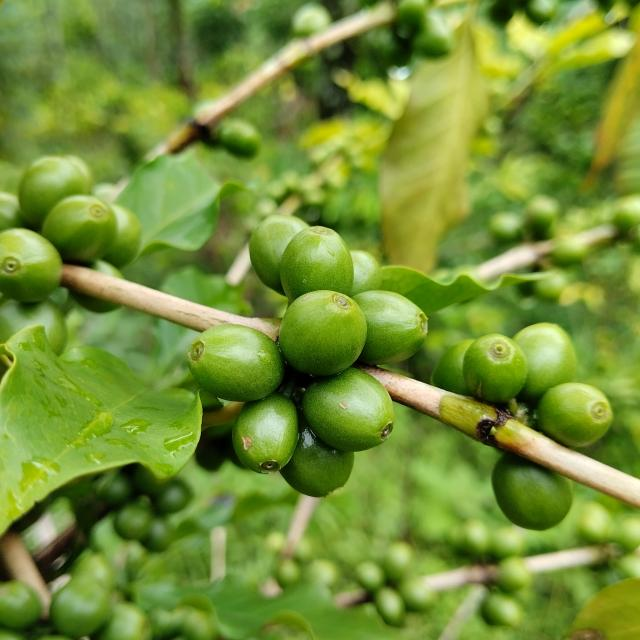green: (302, 367, 394, 452), (279, 290, 367, 376), (188, 324, 285, 402), (41, 195, 141, 267), (492, 453, 574, 531), (280, 226, 354, 303), (353, 290, 428, 365), (232, 392, 298, 474), (279, 426, 354, 498), (18, 155, 89, 229), (513, 323, 578, 402), (41, 195, 116, 263), (538, 383, 614, 448), (249, 214, 309, 295), (463, 334, 528, 404), (0, 228, 61, 302)
